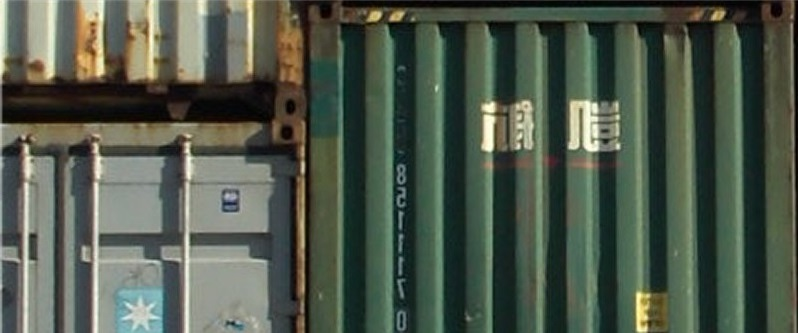container_door: (1, 121, 306, 333)
container_no_door: (312, 1, 796, 326)
